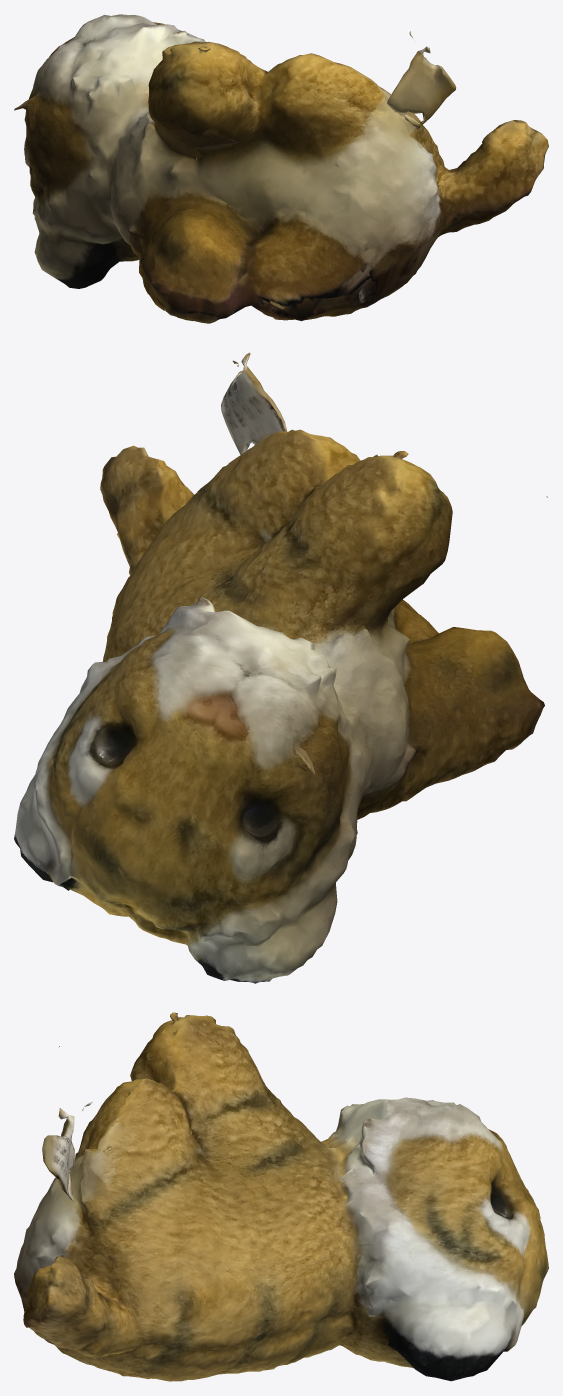
Rendered from tiger.glb.
3 renders of one model, top to bottom at view 1: azimuth 30°, elevation 25°; view 2: azimuth 150°, elevation 25°; view 3: azimuth 270°, elevation 25°, orthographic. The views are drawn at different scales.
Parts seen in each view (by area): view 1: defaultobject; view 2: defaultobject; view 3: defaultobject.
Part boxes in pixels (x1,y1,x2,y2): defaultobject: [14, 14, 548, 323]; defaultobject: [14, 352, 547, 983]; defaultobject: [14, 1012, 548, 1381].
Size of the model in its own units: 5.26 by 4.47 by 6.08.
1 material, 1 textured.
